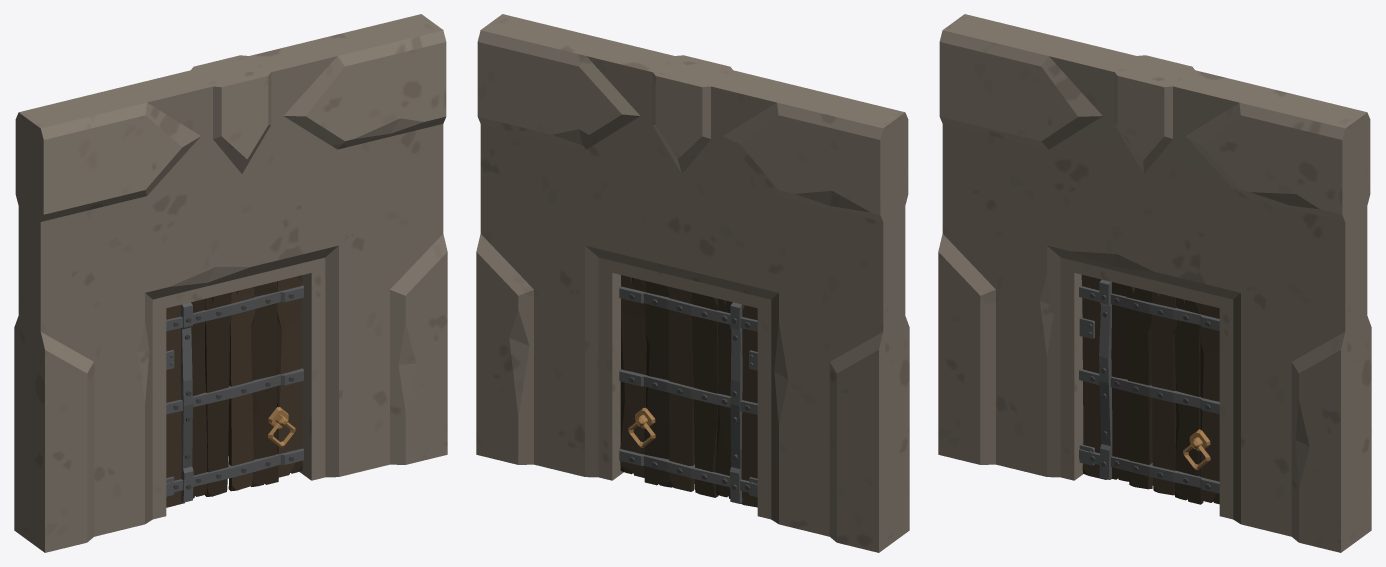
File: wall_door.glb
The picture shows the model from 3 angles, left to right: view 1: azimuth 30°, elevation 25°; view 2: azimuth 150°, elevation 25°; view 3: azimuth 330°, elevation 25°; orthographic projection.
Visible parts, largest first — view 1: SM_Env_Dwarf_Wall_DoorFrame_Single_01, SM_Env_Dwarf_Wall_DoorFrame_Single_01_Door; view 2: SM_Env_Dwarf_Wall_DoorFrame_Single_01, SM_Env_Dwarf_Wall_DoorFrame_Single_01_Door; view 3: SM_Env_Dwarf_Wall_DoorFrame_Single_01, SM_Env_Dwarf_Wall_DoorFrame_Single_01_Door.
Part boxes in pixels (box(x1,y1,x2,y2)): SM_Env_Dwarf_Wall_DoorFrame_Single_01: box(14, 14, 447, 552); SM_Env_Dwarf_Wall_DoorFrame_Single_01_Door: box(166, 275, 303, 507); SM_Env_Dwarf_Wall_DoorFrame_Single_01: box(476, 14, 909, 552); SM_Env_Dwarf_Wall_DoorFrame_Single_01_Door: box(619, 275, 757, 507); SM_Env_Dwarf_Wall_DoorFrame_Single_01: box(938, 14, 1371, 552); SM_Env_Dwarf_Wall_DoorFrame_Single_01_Door: box(1079, 274, 1219, 504).
Bounding box in the file's own units: 5 × 5 × 0.6603.
Materials: 1 (1 with a texture image).
